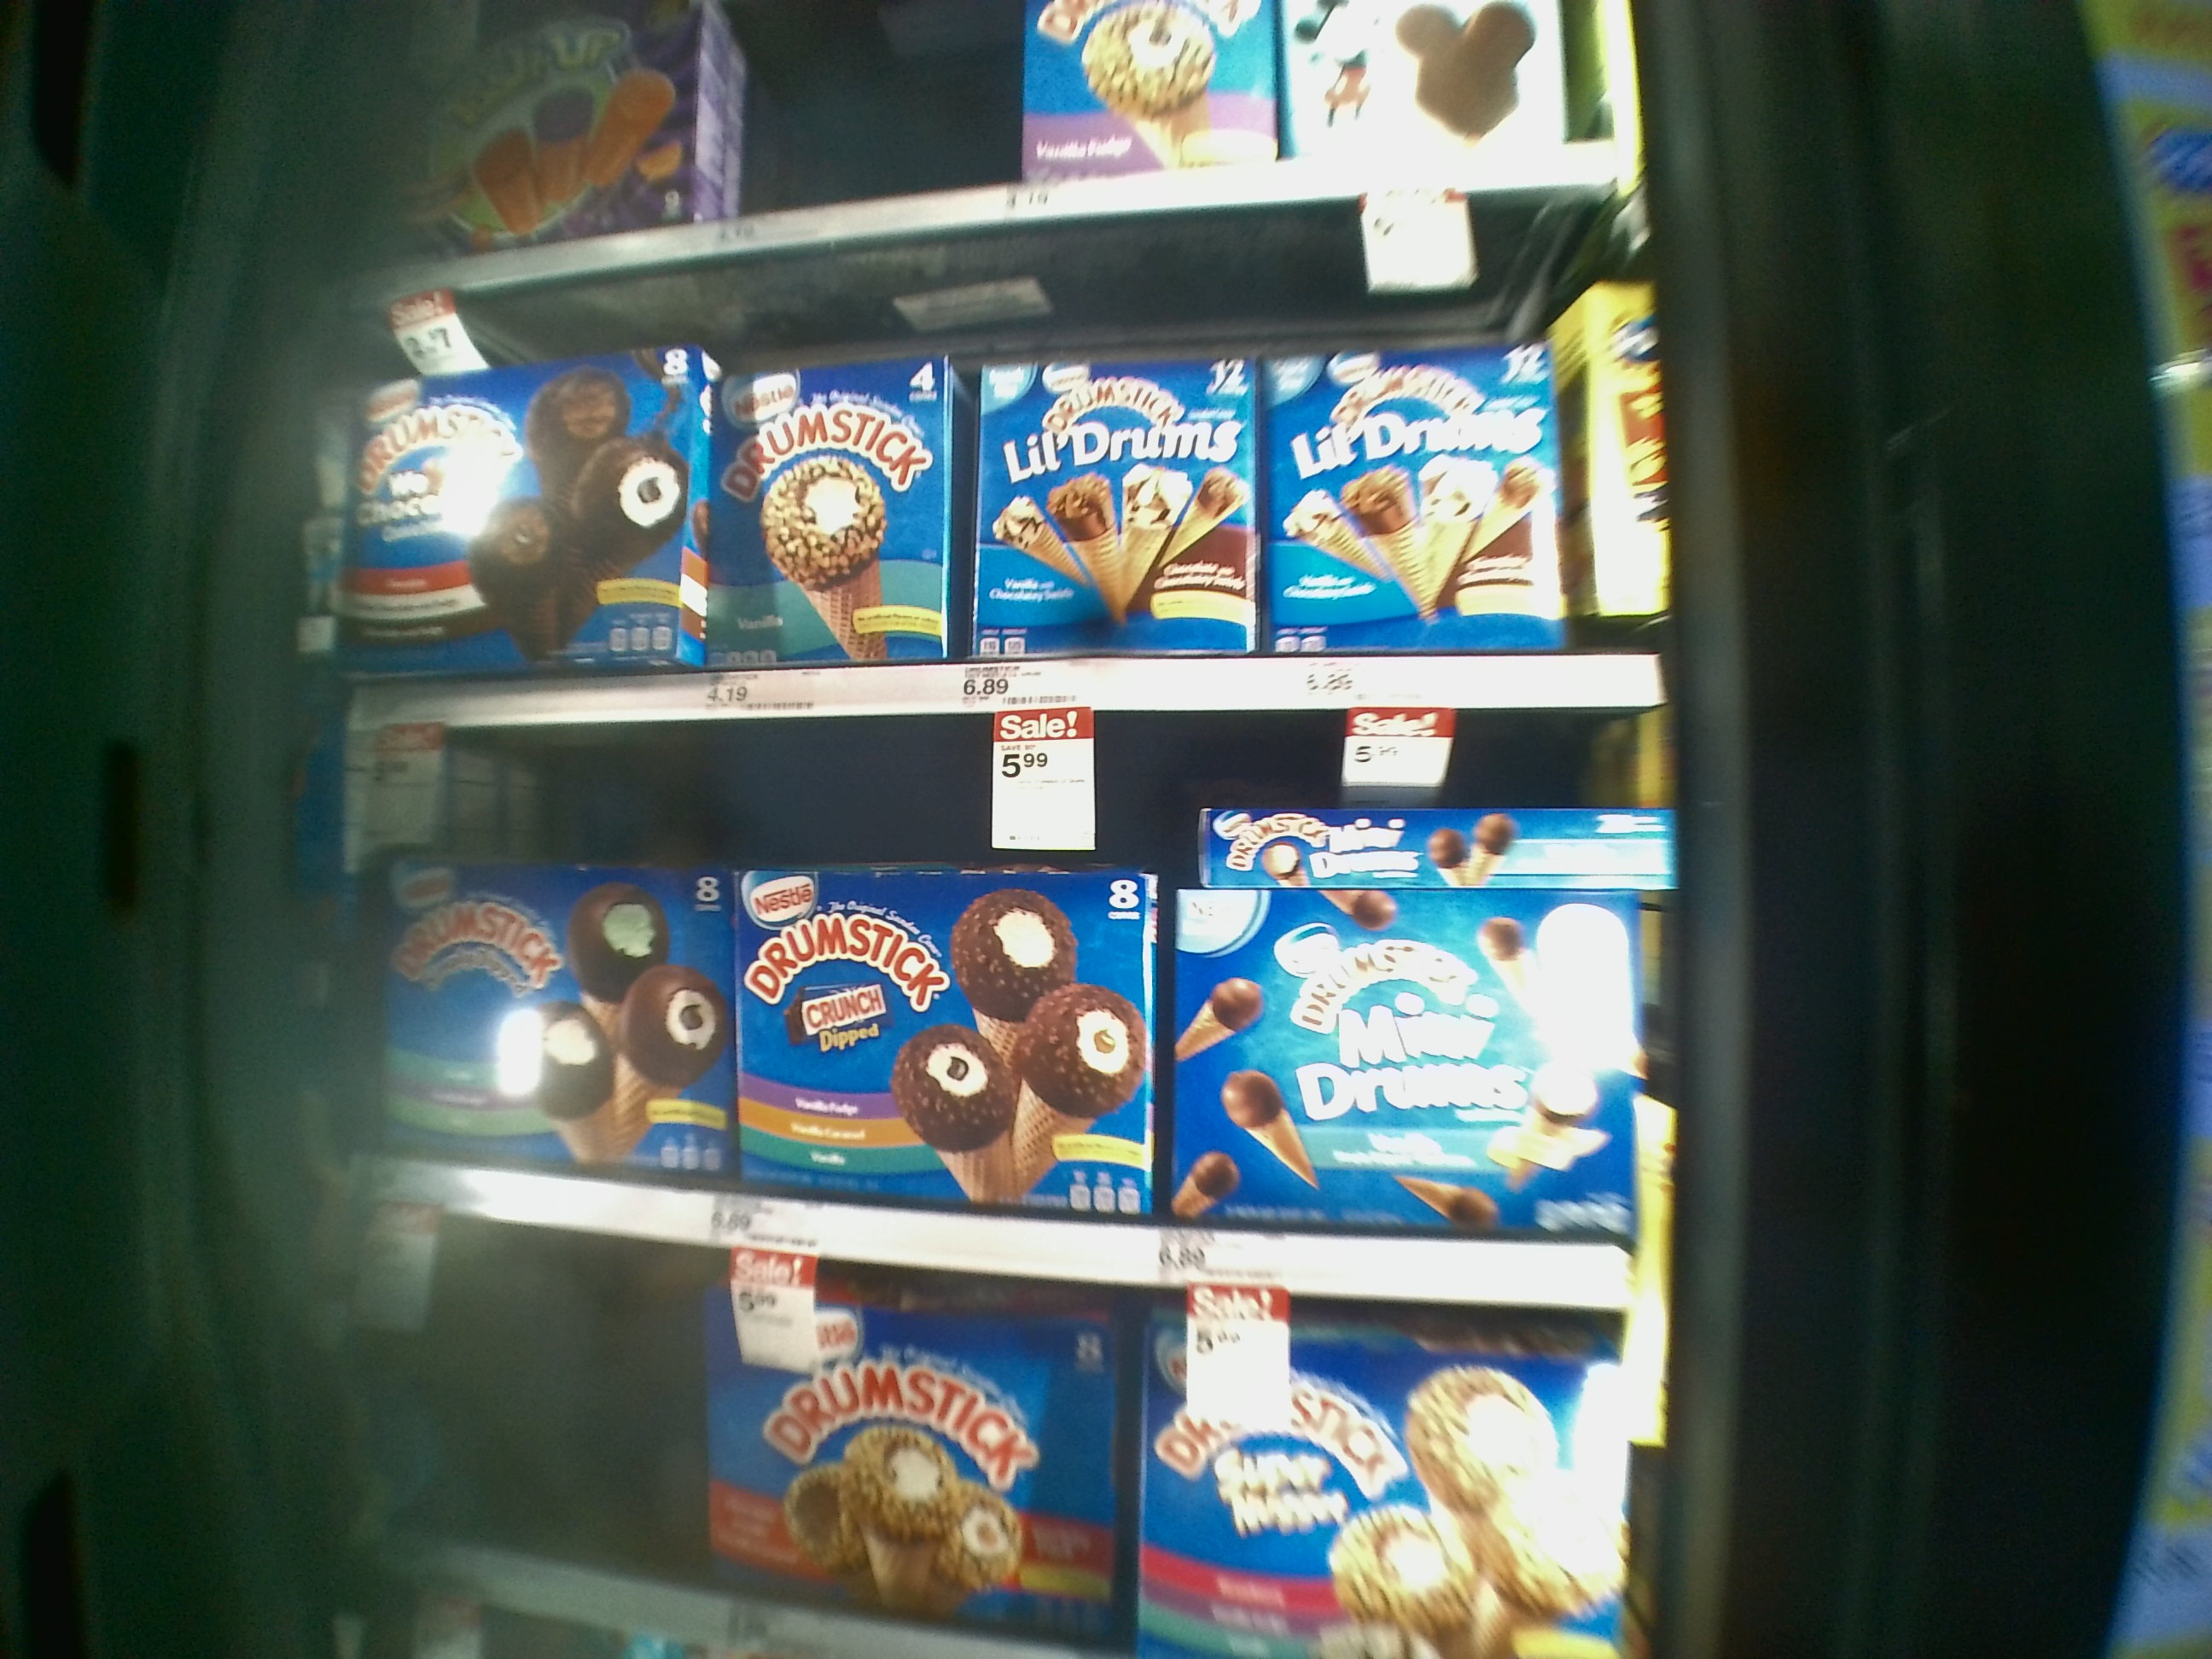shelf: (340, 713, 1695, 1309), (340, 193, 1669, 718)
